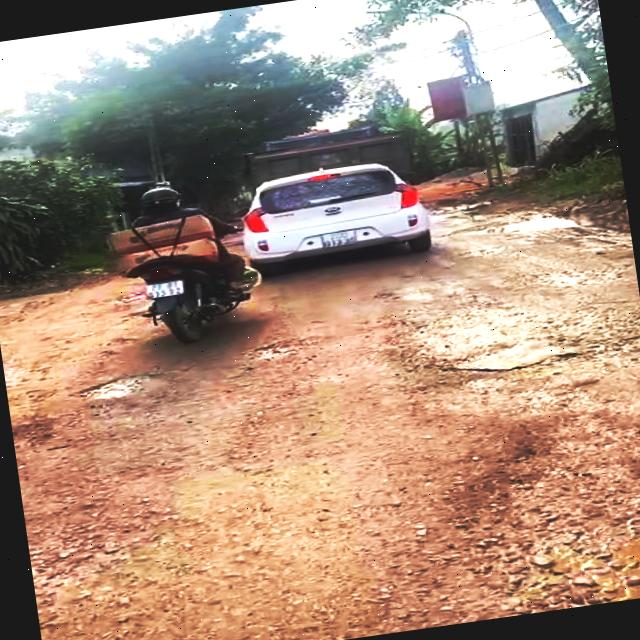pothole: (513, 500, 640, 613), (428, 319, 630, 386), (72, 371, 176, 406), (250, 336, 311, 366)
